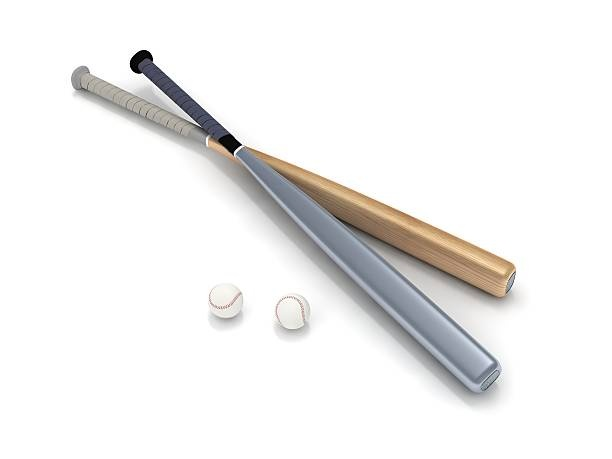bita: (128, 44, 505, 393), (72, 70, 506, 291)
